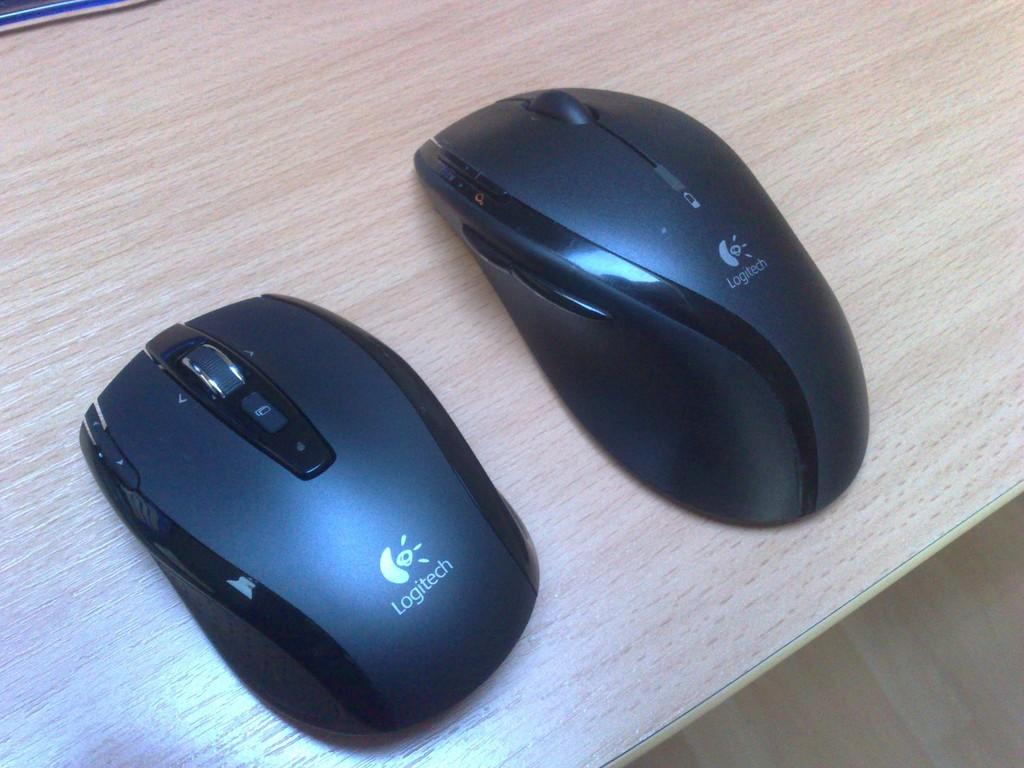Computer-mouse: (72, 288, 540, 743), (411, 79, 876, 532)
